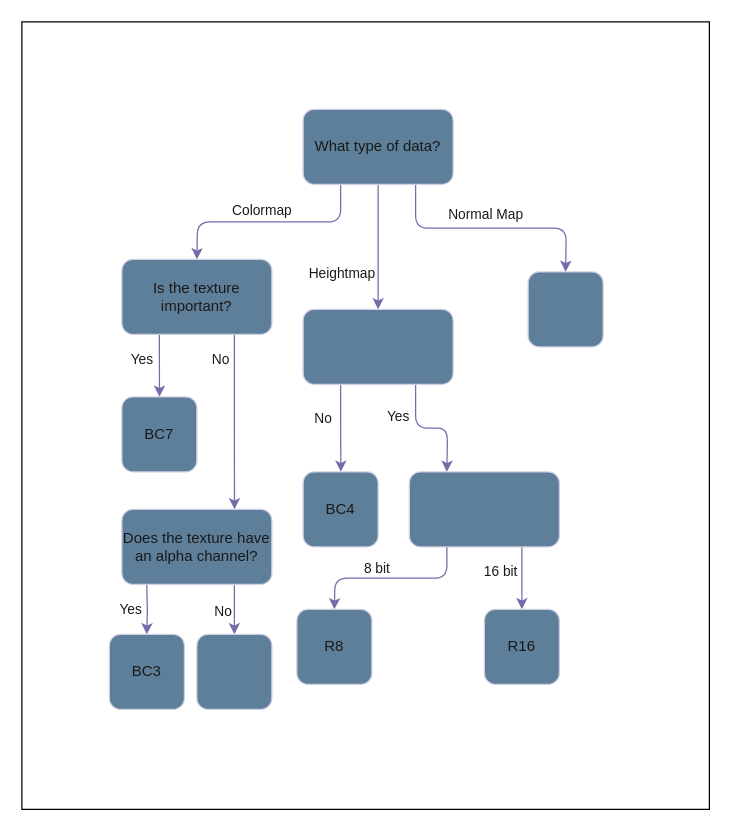
This 731x831 diagram has some shape labels left out. The centre of each missing label's shape, as x and y in pixels:
8 bit or 16 bit?: (483,509)
BC1: (234,671)
BC5: (565,309)
Is height precision extremely important?: (377,346)
